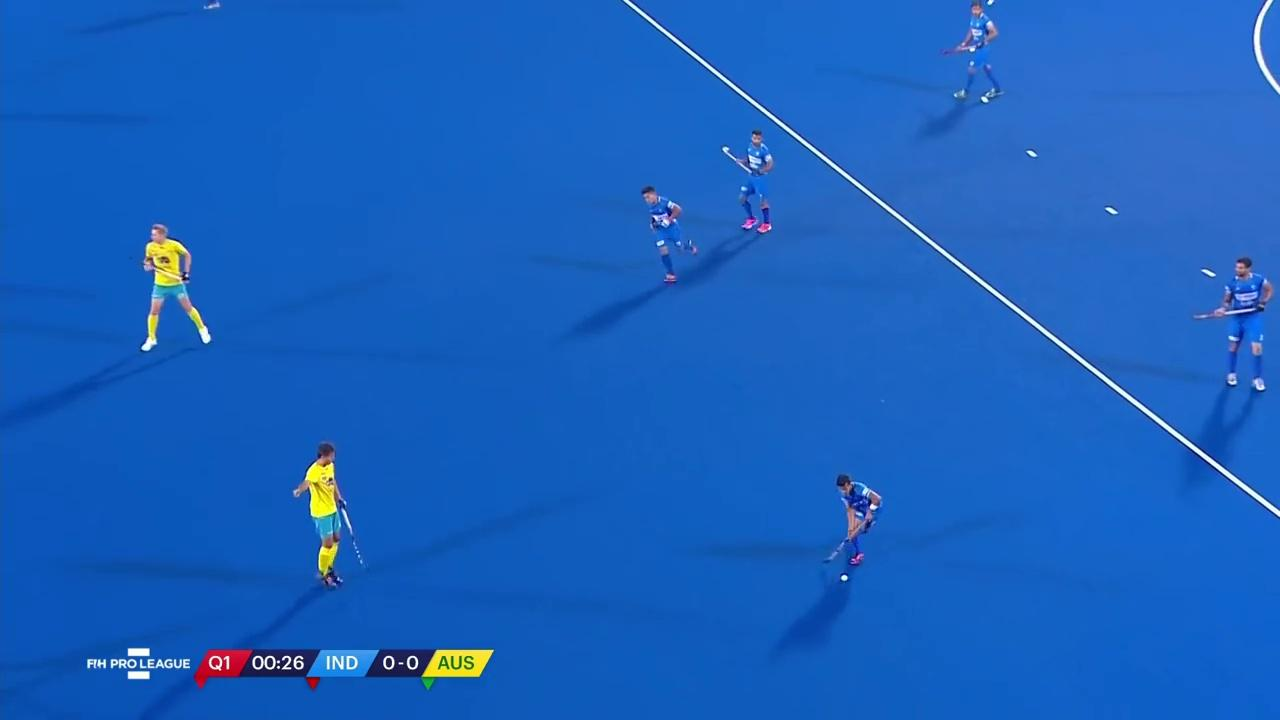ball: (835, 567, 853, 585)
